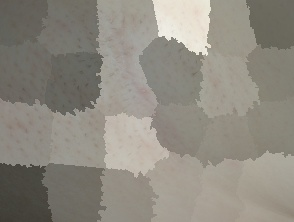vitiligo: (0, 0, 235, 218)
